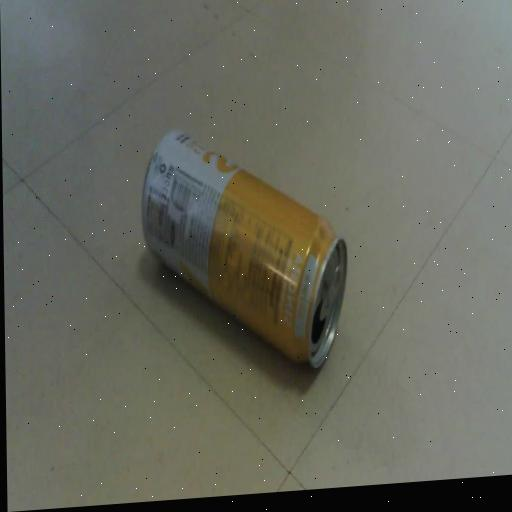canned: (135, 101, 368, 395)
